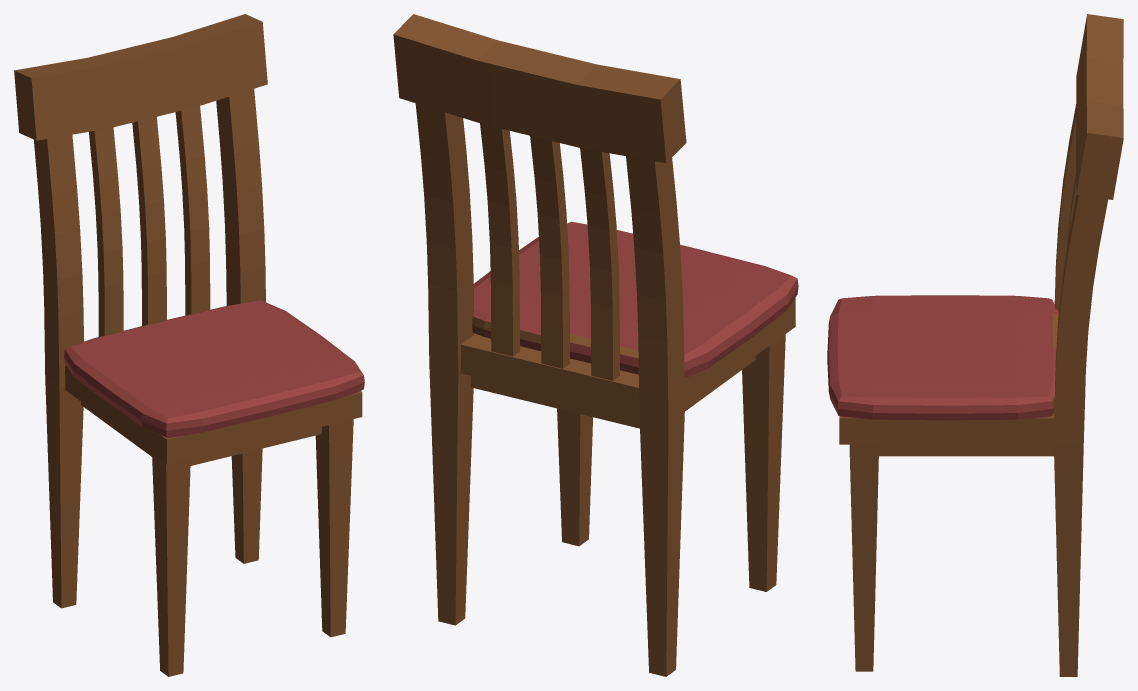
The model's file is Chair.fbx.
3 views of the same model, side by side, from view 1: azimuth 30°, elevation 25°; view 2: azimuth 150°, elevation 25°; view 3: azimuth 270°, elevation 25° (orthographic). The views are drawn at different scales.
Parts seen in each view (by area): view 1: KitchenChair_01; view 2: KitchenChair_01; view 3: KitchenChair_01.
Boxes of the visible parts, x1,y1,x2,y2 form: KitchenChair_01: (14,14,364,676); KitchenChair_01: (393,14,798,676); KitchenChair_01: (827,14,1123,676).
Bounding box in the file's own units: 84.59 × 183 × 89.23.
